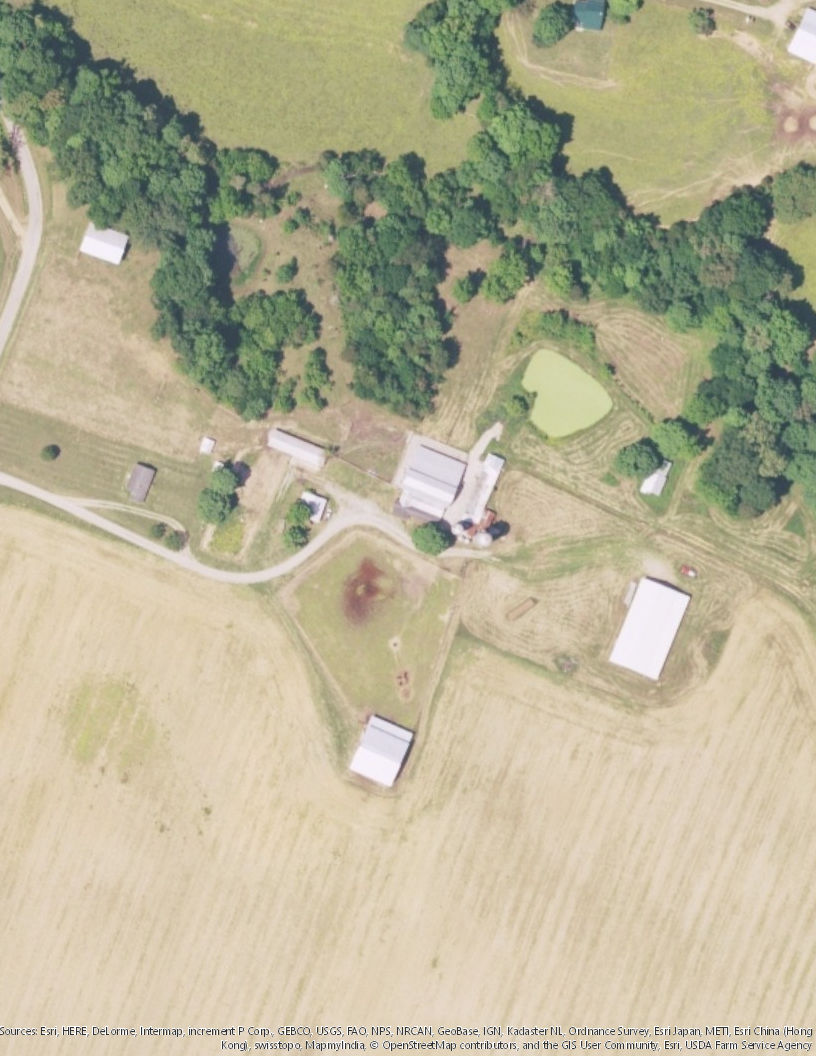cafo: (608, 570, 699, 691), (343, 707, 427, 798), (264, 423, 330, 469)
